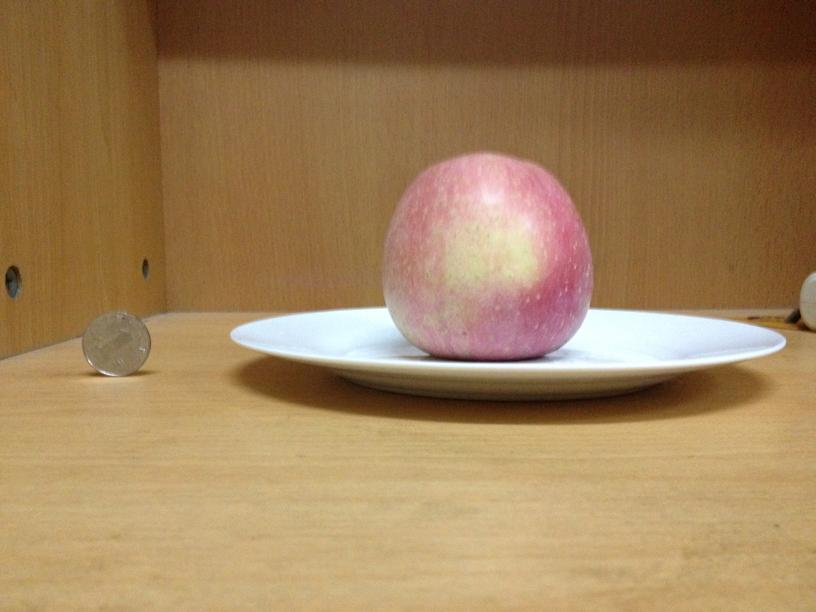apple: (381, 155, 594, 358)
coin: (81, 311, 152, 377)
